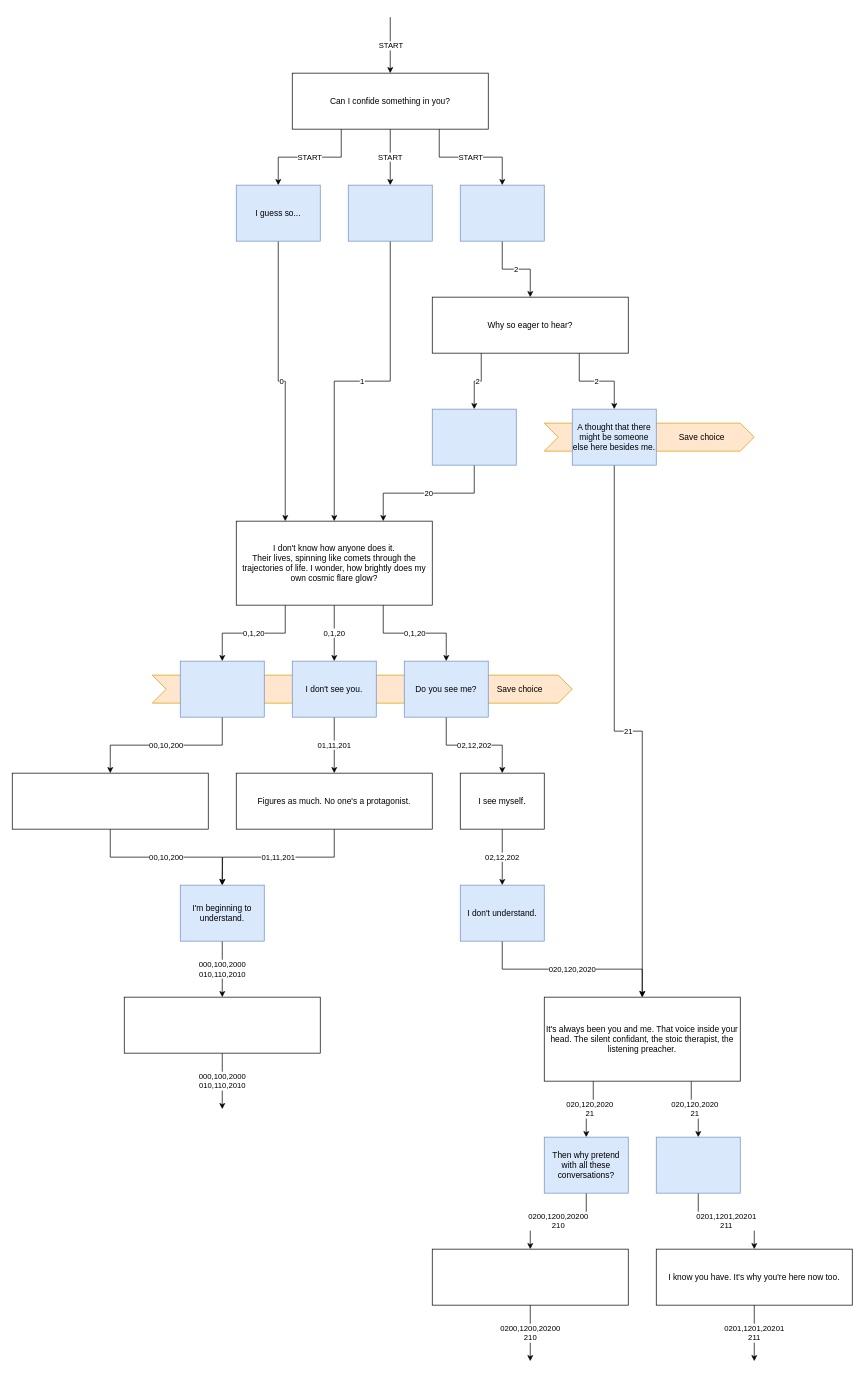
The diagram is 865 pixels wide and 1379 high, and some of its shapes have lost their labels. The shapes that lost their labels are listed below. From the top down, each one's centre as x and y in pixels, then its label:
At pixel 390 212: "Yes.".
At pixel 502 212: "I need you to. Please.".
At pixel 474 436: "A chance to comfort someone else for a change.".
At pixel 222 688: "I see you.".
At pixel 110 800: "Thank you. So much. I thought I was alone.".
At pixel 222 1024: "Good. Here's a passing thought: Who does everyone else talk to when they die?".
At pixel 698 1164: "I've been there for you too.".
At pixel 530 1276: "It's what we did in life. Why stop now?".
